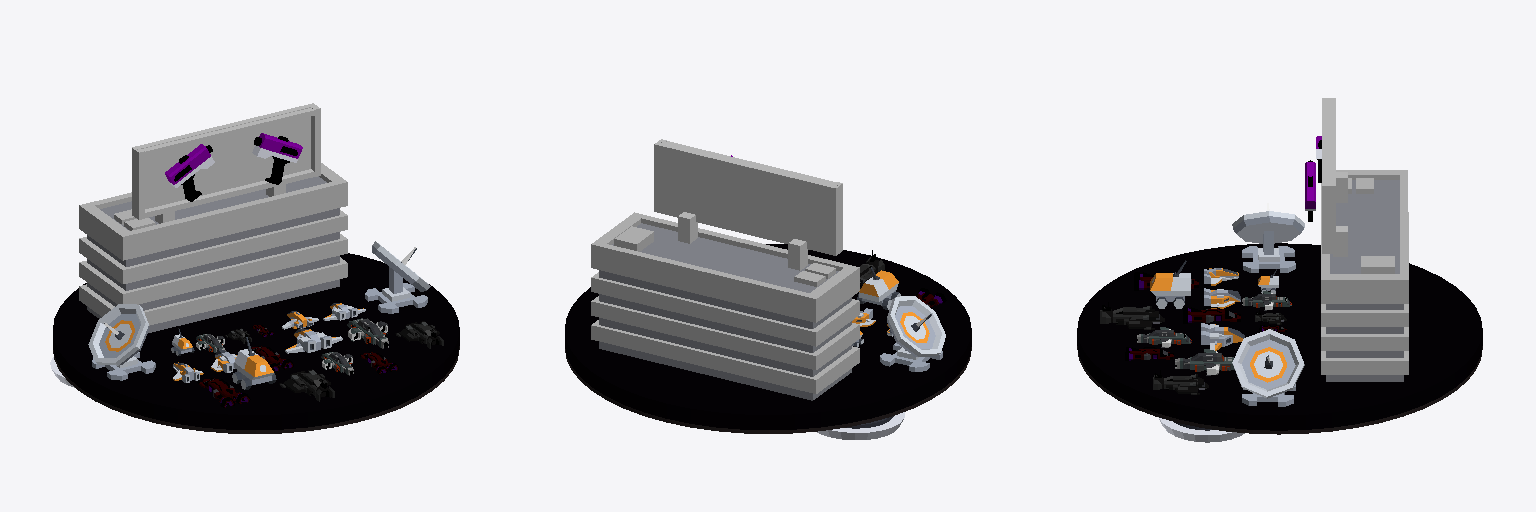
3 views of the same model, side by side, from view 1: azimuth 30°, elevation 25°; view 2: azimuth 150°, elevation 25°; view 3: azimuth 270°, elevation 25° (orthographic).
Visible parts, largest first — view 1: base, low_wideA, Cube.002, satelliteDish, satelliteDish.001, Cube.005, Cube.006, gun, gun.001, rover.001, ship_2.001, ship_3.001 (+6 smaller); view 2: low_wideA, base, Cube.002, satelliteDish, rover.001, Cube, Cube.001; view 3: base, low_wideA, satelliteDish.001, satelliteDish, rover.001, ship_2.001, Cube.002, ship_3.001, ship_2.002, craft_speederC.001, ship_1.002, ship_3.002 (+4 smaller).
Boxes of the visible parts, x1,y1,x2,y2 form: base: [50, 253, 459, 433]; low_wideA: [79, 163, 347, 332]; Cube.002: [132, 103, 316, 216]; satelliteDish: [88, 304, 155, 380]; satelliteDish.001: [365, 241, 430, 313]; Cube.005: [143, 108, 314, 156]; Cube.006: [145, 169, 314, 217]; gun: [165, 144, 214, 201]; gun.001: [252, 133, 302, 184]; rover.001: [232, 337, 276, 389]; ship_2.001: [279, 369, 334, 401]; ship_3.001: [347, 318, 388, 348]; low_wideA: [591, 212, 859, 400]; base: [565, 244, 971, 439]; Cube.002: [654, 142, 839, 255]; satelliteDish: [880, 296, 945, 371]; rover.001: [857, 267, 900, 309]; Cube: [788, 239, 807, 270]; Cube.001: [678, 212, 697, 243]; base: [1077, 243, 1482, 442]; low_wideA: [1321, 170, 1408, 381]; satelliteDish.001: [1232, 329, 1304, 406]; satelliteDish: [1232, 203, 1304, 272]; rover.001: [1150, 260, 1190, 308]; ship_2.001: [1100, 302, 1164, 329]; Cube.002: [1329, 98, 1335, 253]; ship_3.001: [1175, 349, 1234, 375]; ship_2.002: [1153, 370, 1208, 394]; craft_speederC.001: [1201, 323, 1244, 350]; ship_1.002: [1183, 307, 1240, 323]; ship_3.002: [1137, 327, 1191, 347].
Bounding box in the file's own units: 3.88 × 2.34 × 3.86.
120 materials, 1 textured.